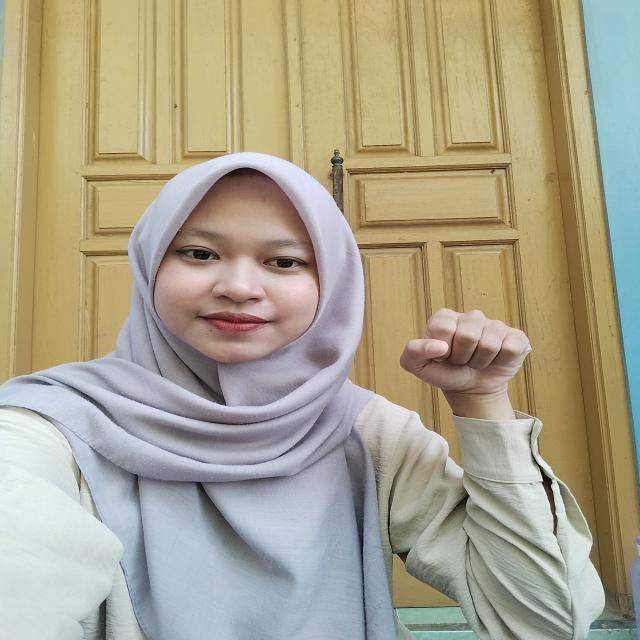baik: (386, 303, 554, 475)
